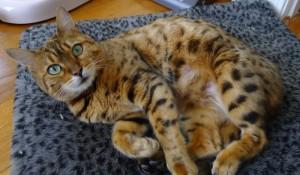bengal: (2, 3, 107, 113)
